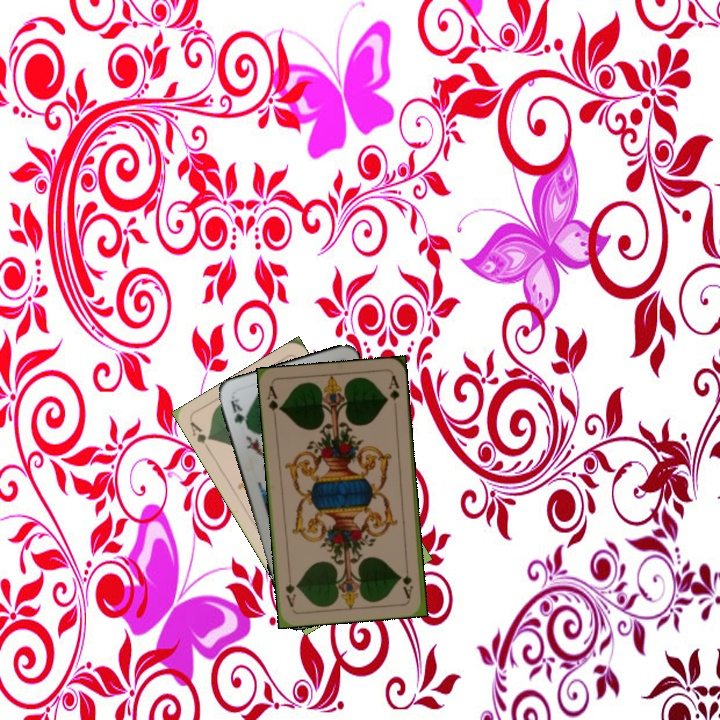GA: (186, 417, 214, 454), (263, 382, 284, 423), (399, 560, 415, 601)
GK: (227, 393, 246, 426)
